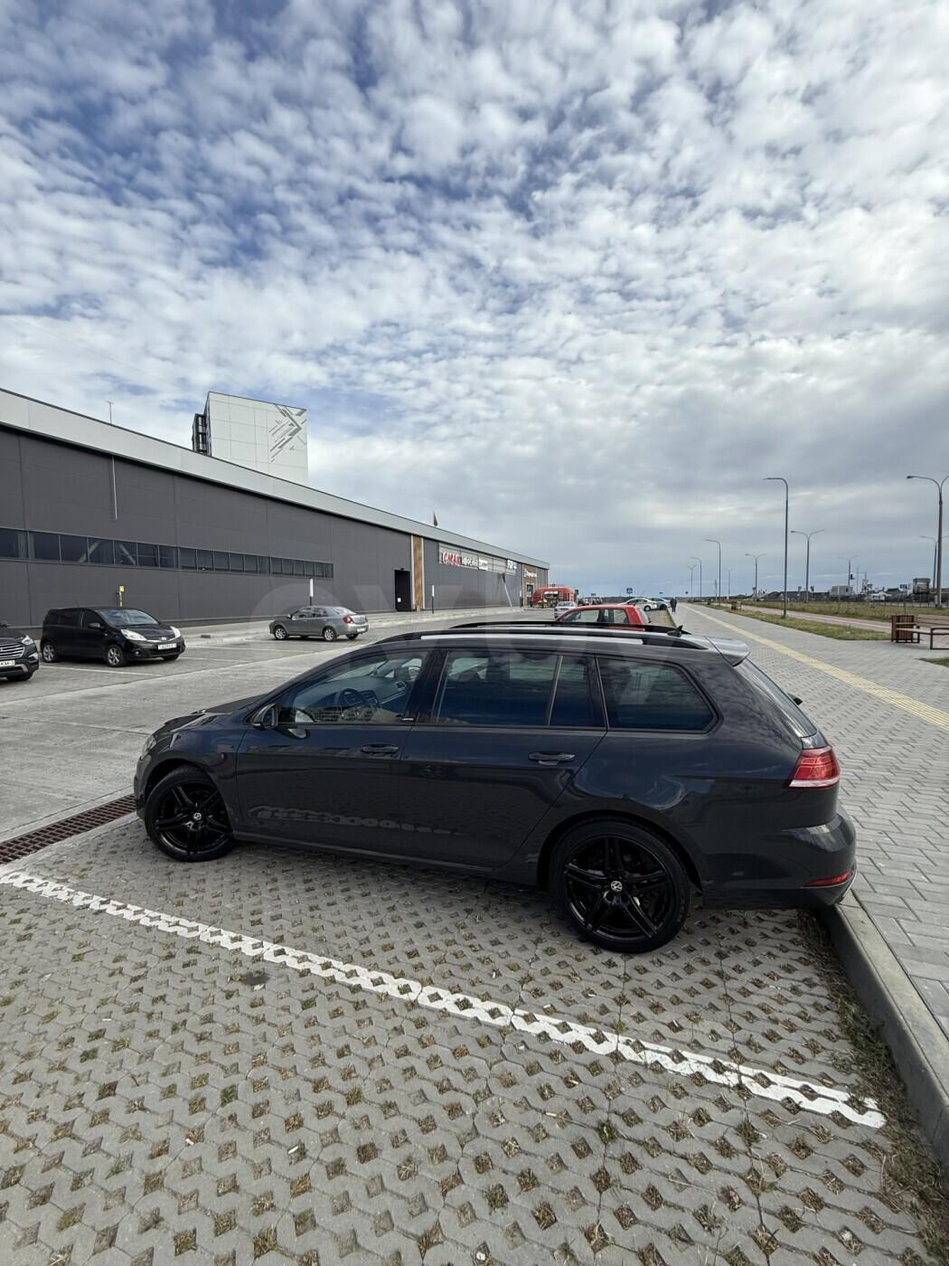Golf_2017-2021: (129, 624, 861, 960)
